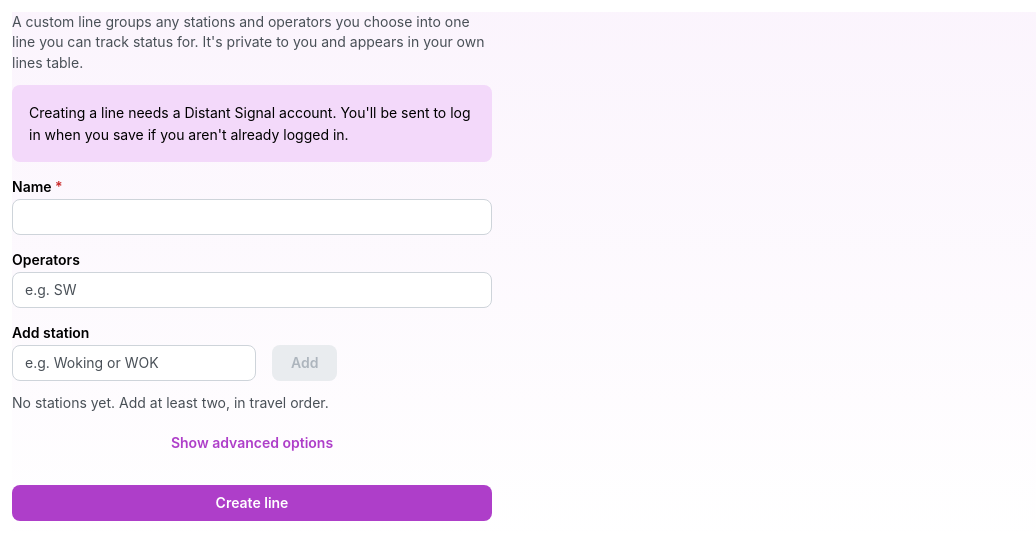
Test case: CustomLineForm › typing a station name and selecting a suggestion adds the resolved CRS code as a pill
In the dropdown labelled "Add station": (134, 363) [12, 345, 256, 381], type "Woking"
Wait 250 ms
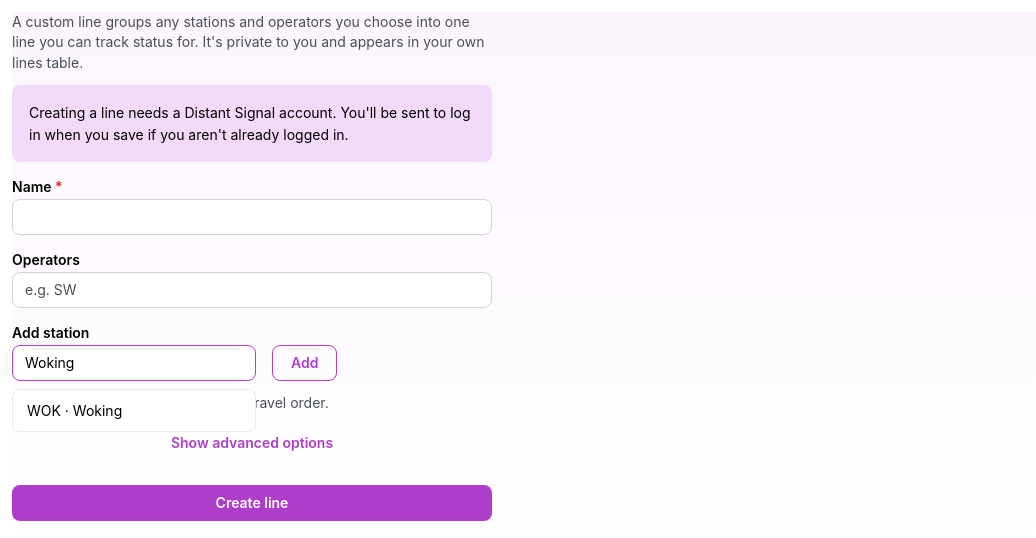
Click the option "WOK · Woking": (75, 410) [27, 402, 122, 419]
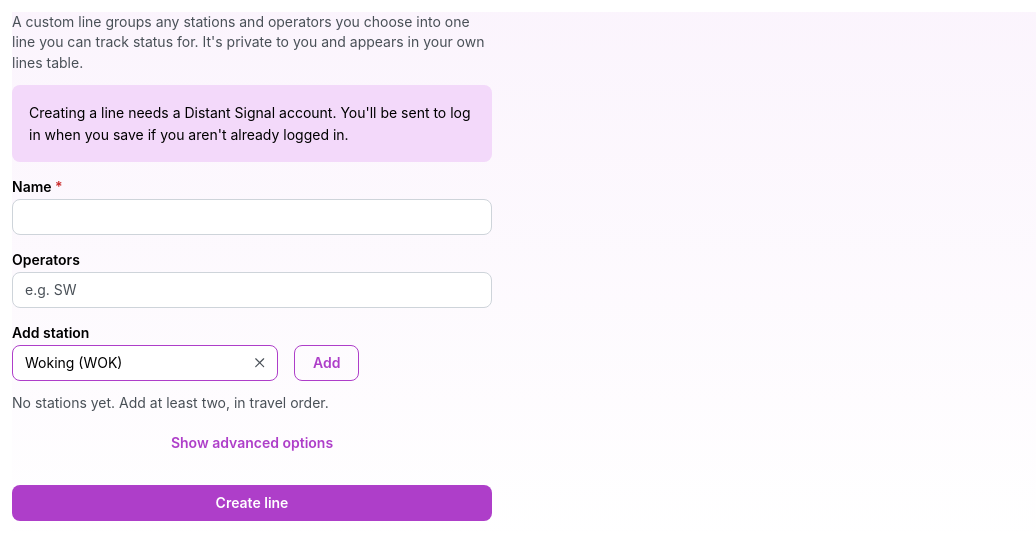
Click the button "Add": (327, 363) [294, 345, 360, 381]
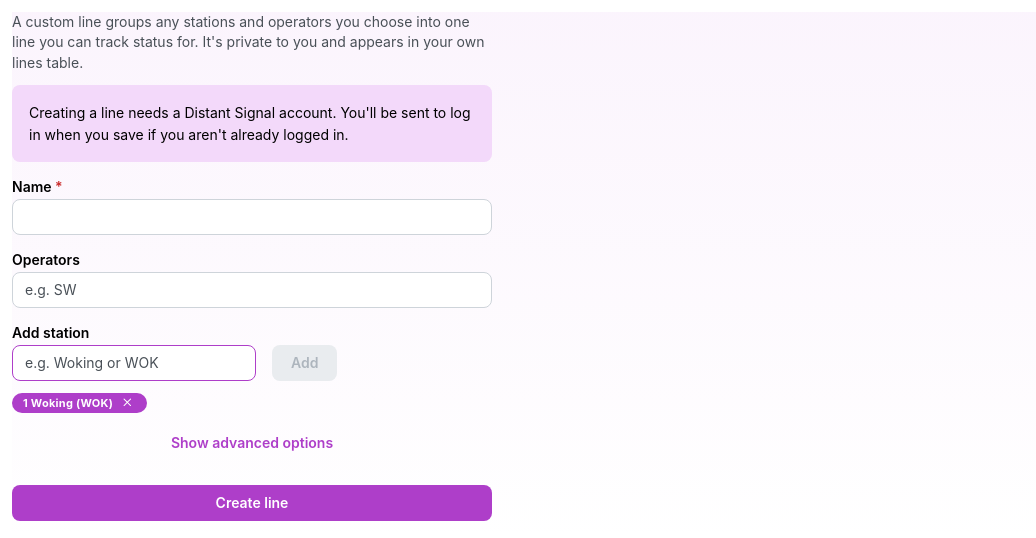
Check: the text "1 Woking (WOK)" is shown, box [23, 394, 113, 412]
Check: the dropdown labelled "Add station" is empty, box [12, 345, 256, 381]
